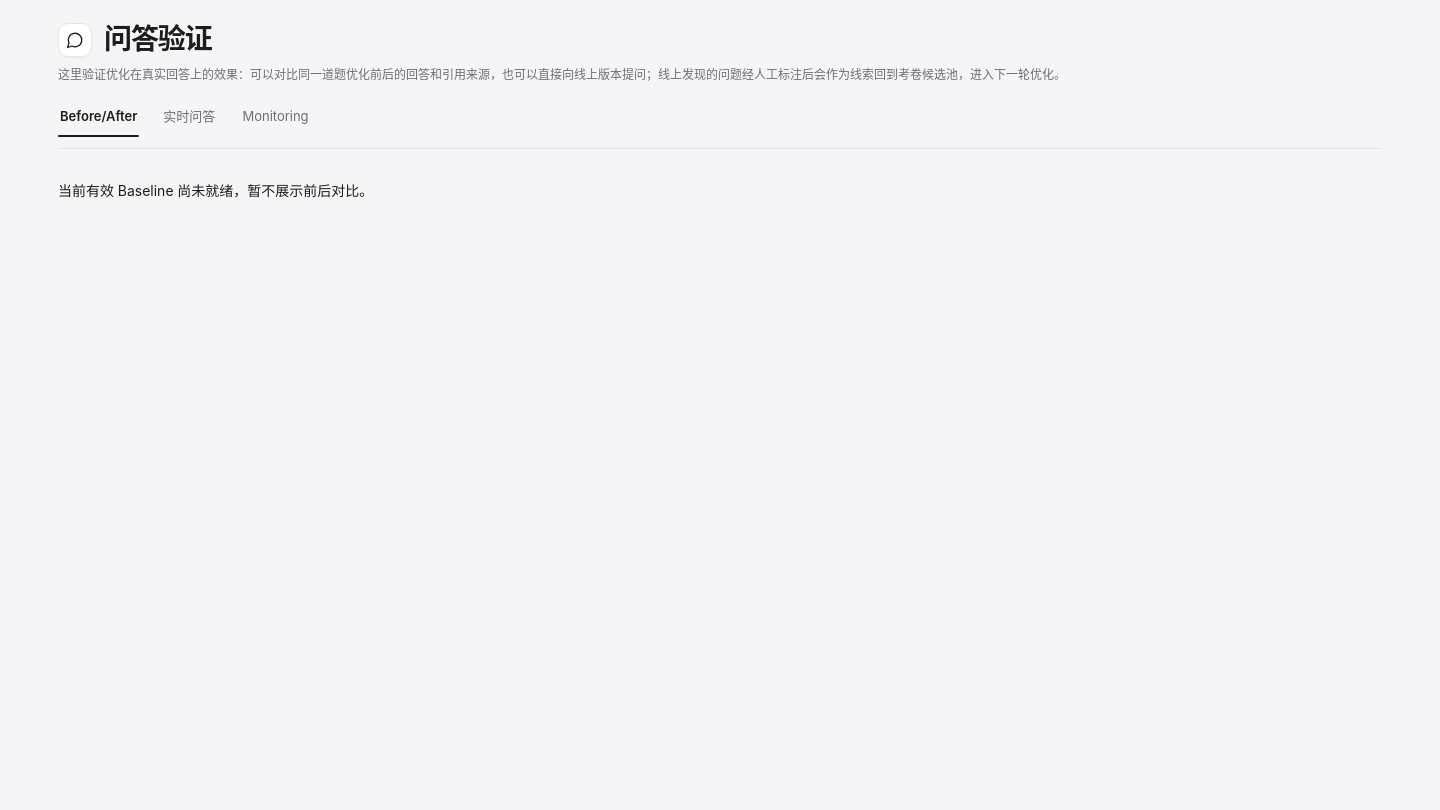
Test: uses an honest empty monitoring state and never invents records
This screenshot has width=1440, height=810.
Click the button "Monitoring" at (276, 116), box x1=239 y1=96 x2=312 y2=136
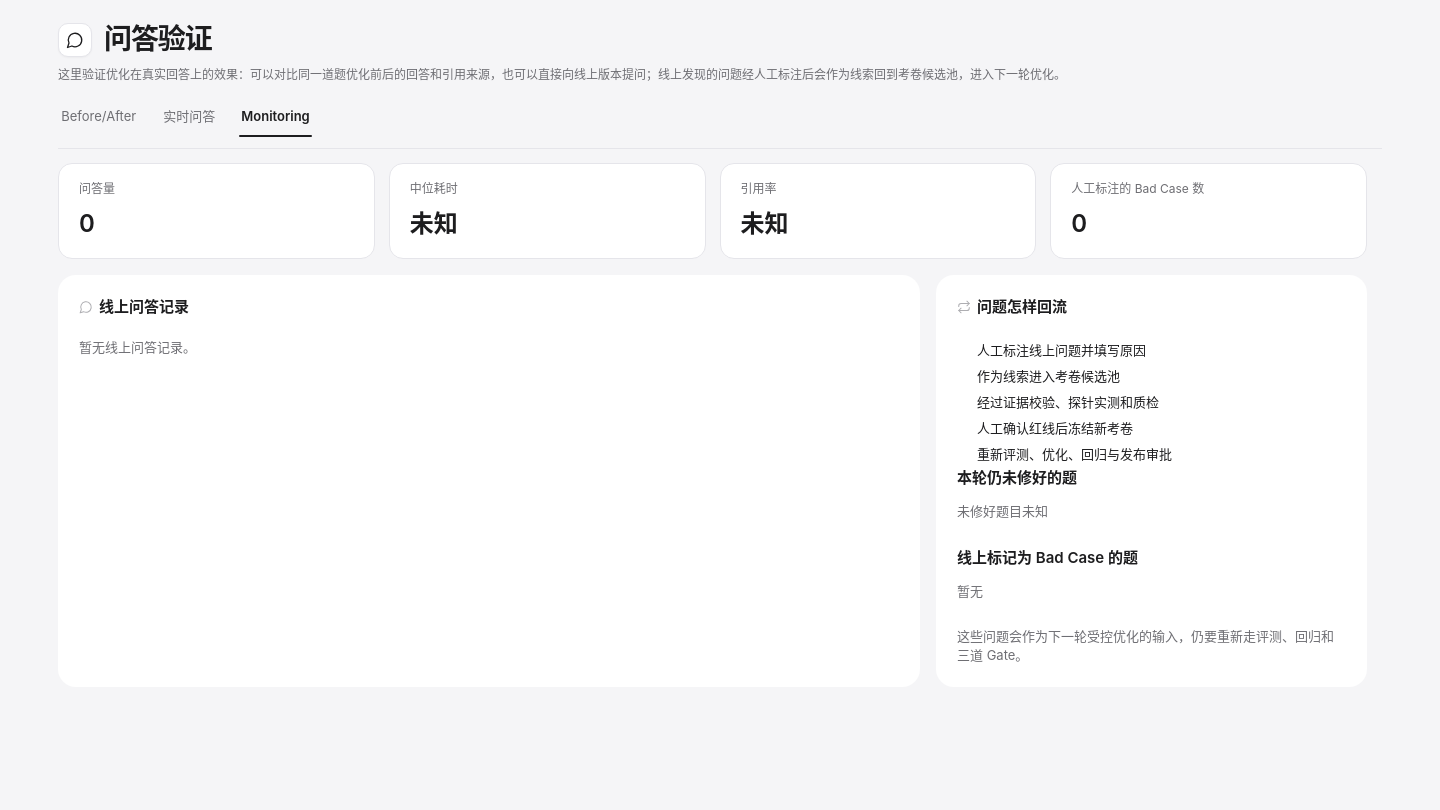
Expected: the text with class "feedback-empty" shows "暂无线上问答记录", x1=79 y1=339 x2=196 y2=355
Expected: the element with class "monitoring-next-inputs" shows "未修好题目未知", x1=957 y1=503 x2=1048 y2=519
